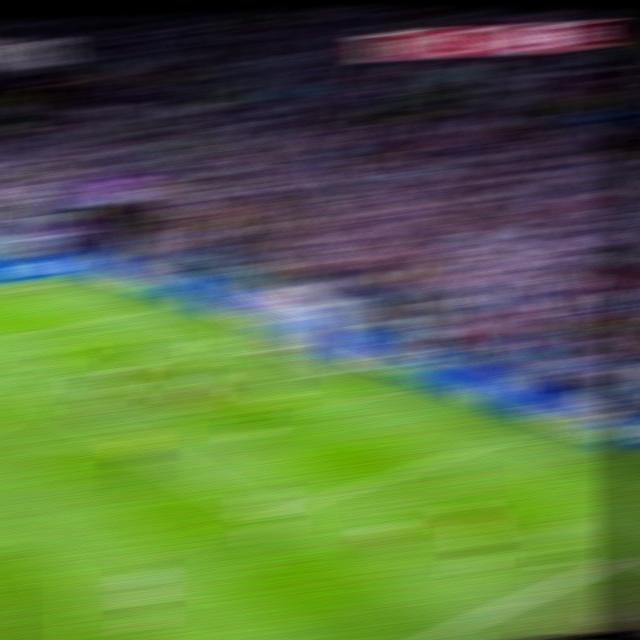bigarea_bottom_outter: (478, 426, 521, 450)
bigarea_top_outter: (125, 300, 160, 316)
corner: (48, 276, 83, 287)
smallarea_bottom_inner: (290, 402, 330, 422)
smallarea_bottom_outter: (354, 382, 394, 402)
smallarea_top_inner: (141, 343, 178, 358)
smallarea_top_outter: (200, 327, 237, 344)
top_arc_area_intersection: (7, 381, 43, 397)
